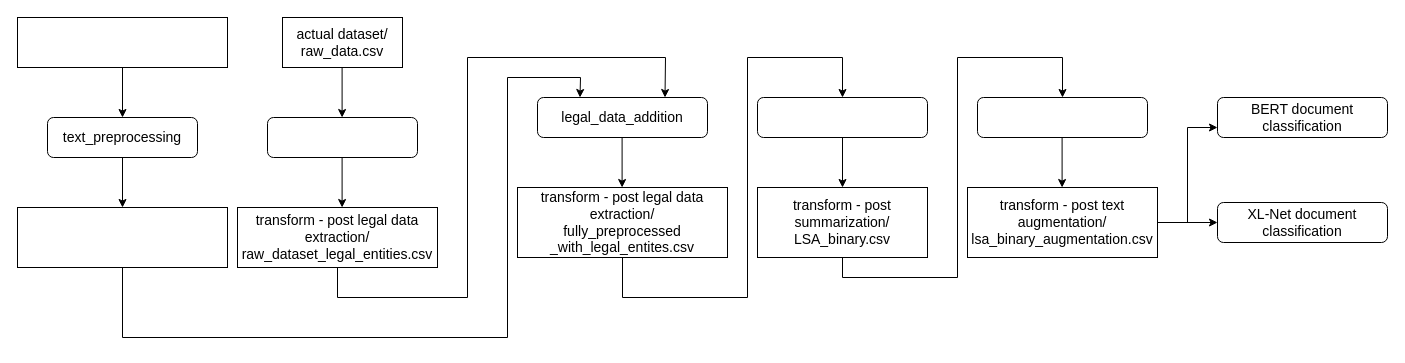
This 1405x363 diagram has some shape labels left out. The shapes that lost their labels are listed below. From the top down, each one's centre as x and y in pixels, then its label:
At pixel 122 42: "actual dataset/ semi_preprocessed_cases.zip".
At pixel 342 137: "legal_data_extraction".
At pixel 842 117: "summarization".
At pixel 1062 117: "text_augmentation".
At pixel 122 237: "transform - post preprocessing/ fully_preprocessed_dataset.csv".
